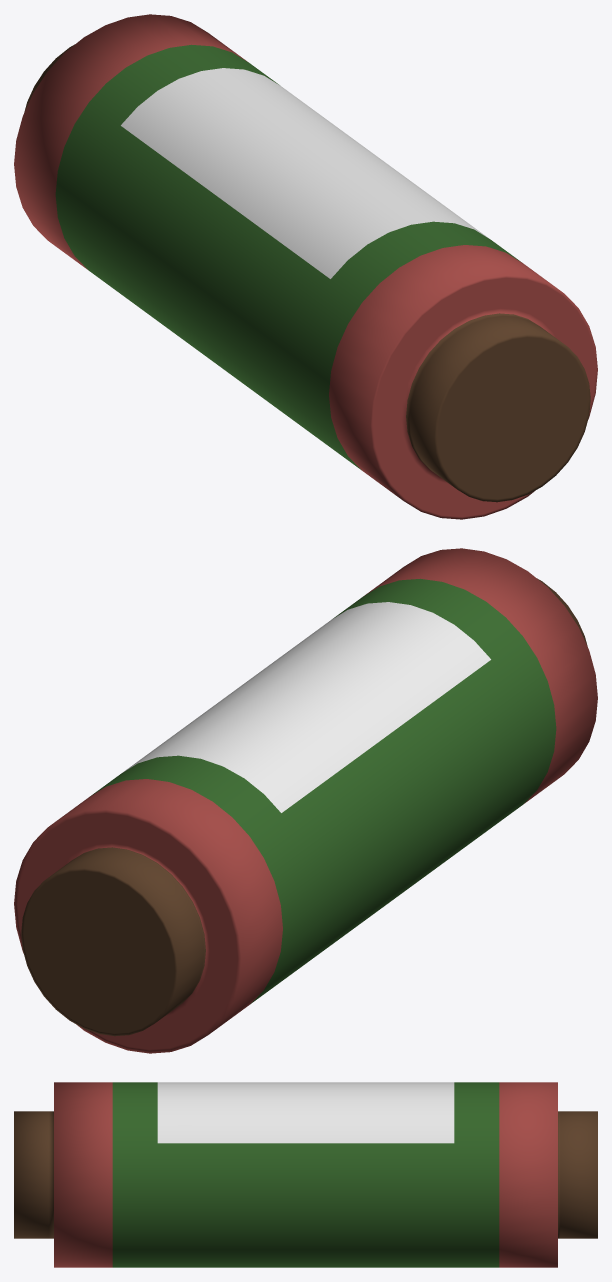
The model's file is Tool_Ninja.fbx.
The picture shows the model from 3 angles, top to bottom: view 1: azimuth 30°, elevation 25°; view 2: azimuth 150°, elevation 25°; view 3: azimuth 270°, elevation 25°; orthographic projection. The views are drawn at different scales.
Parts seen in each view (by area): view 1: Tool_Ninja; view 2: Tool_Ninja; view 3: Tool_Ninja.
Boxes of the visible parts, left/top/right/bottom form: Tool_Ninja: left=14, top=14, right=597, bottom=519; Tool_Ninja: left=14, top=548, right=597, bottom=1053; Tool_Ninja: left=14, top=1082, right=597, bottom=1267.
Bounding box in the file's own units: 15.9 × 15.9 × 50.01.
